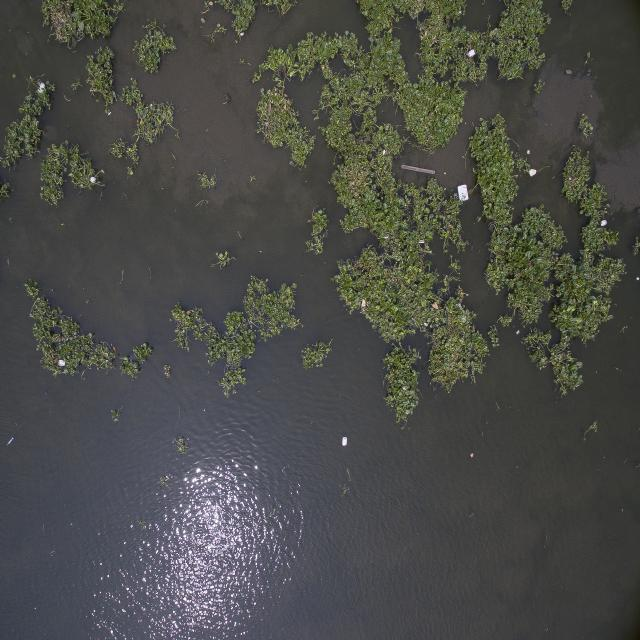plastic: (454, 180, 474, 210), (35, 78, 56, 101), (338, 430, 354, 457), (600, 214, 616, 234), (467, 47, 482, 65), (526, 168, 542, 181), (58, 356, 69, 373)
